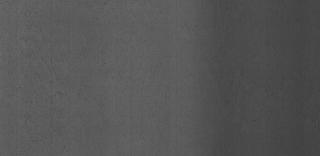silk spot: (8, 17, 84, 97)
